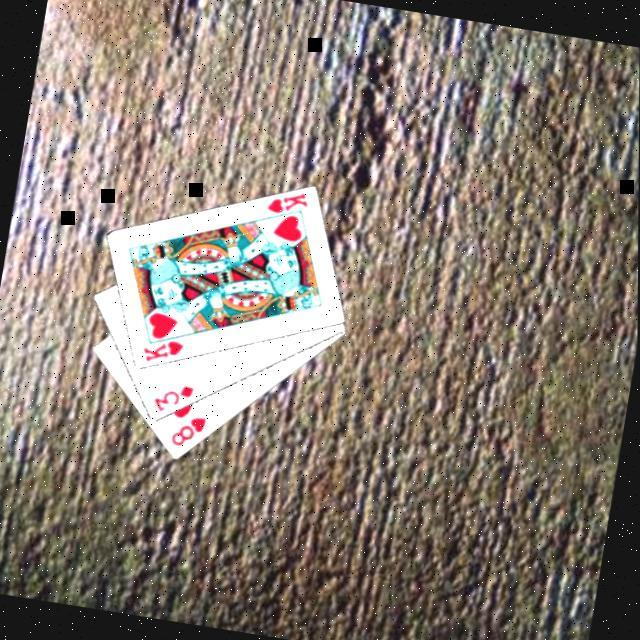3D: (147, 376, 196, 417)
8H: (166, 409, 208, 451)
KH: (136, 330, 186, 369), (261, 182, 311, 219)
